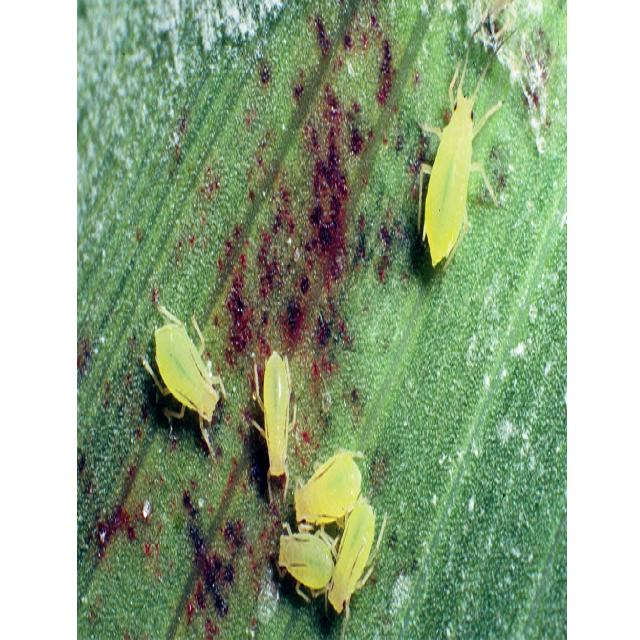Aphid-Grown-: (409, 47, 506, 281), (135, 293, 226, 463), (243, 338, 295, 511), (325, 480, 387, 623), (274, 511, 342, 607), (292, 443, 362, 522)
